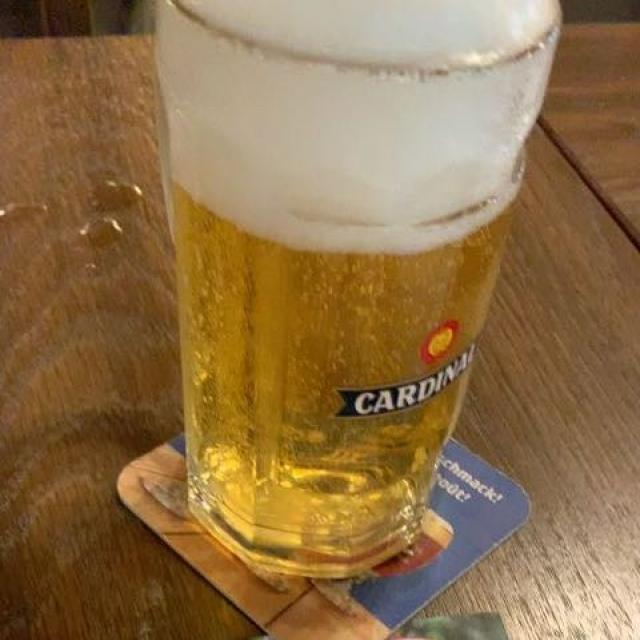beer: (167, 15, 534, 567)
